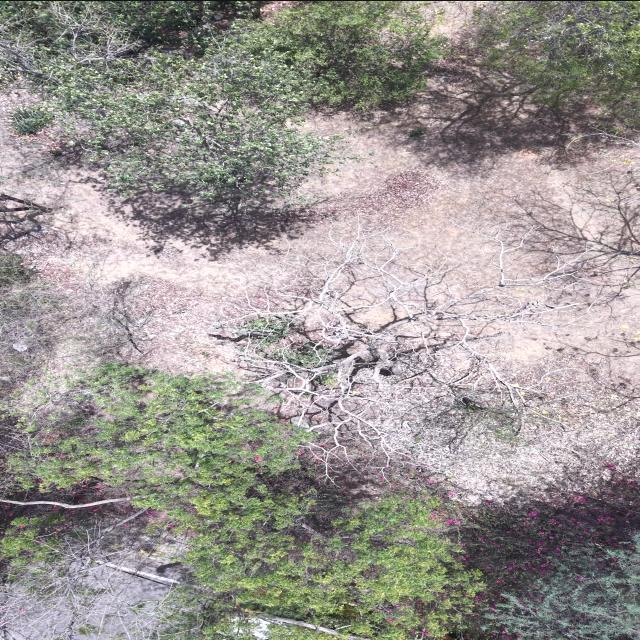DRY_AREA: (0, 80, 639, 374)
VEGETATION_TREE: (0, 311, 639, 639), (6, 365, 481, 639), (1, 1, 639, 200), (1, 1, 441, 198), (462, 481, 639, 639), (472, 1, 639, 127), (259, 1, 445, 109), (486, 535, 639, 639), (8, 108, 53, 134)
